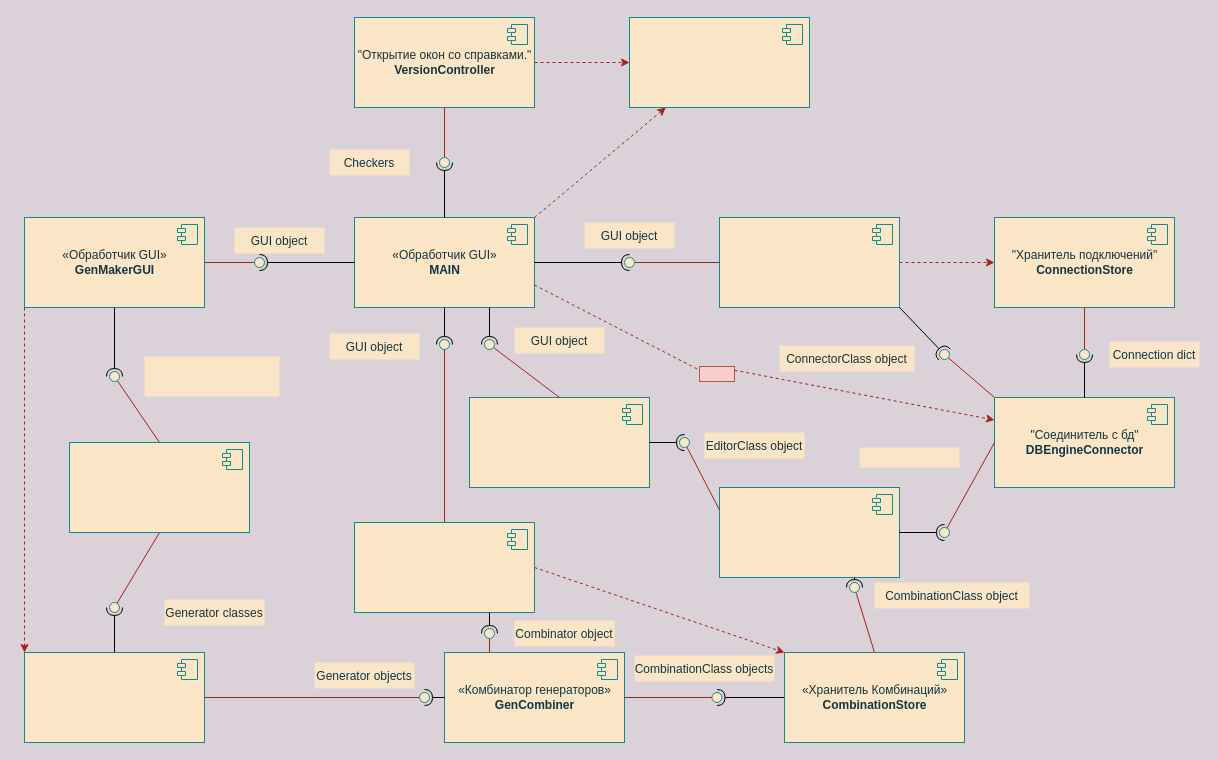
Image size: 1217x760. Some labels were removed from this diagram. Here are the shapes that lost their labels. From the top down, the centre of each, then its label:
(x=719, y=62): «Справочик» UserGuide
(x=809, y=262): «Обработчик GUI» ConnectionGUI
(x=211, y=376): GenConstructorClass object
(x=716, y=374): Запросы
(x=559, y=442): «Обработчик GUI» EditorGUI
(x=909, y=457): ConnectorClass object (from main)
(x=159, y=487): «Конструткор генераторов» GenConstructor
(x=809, y=532): «Редактор таблиц» DBEditor
(x=444, y=567): «Обработчик GUI» GenCombinerGUI
(x=114, y=697): «Хранитель генераторов» GeneratorStore
